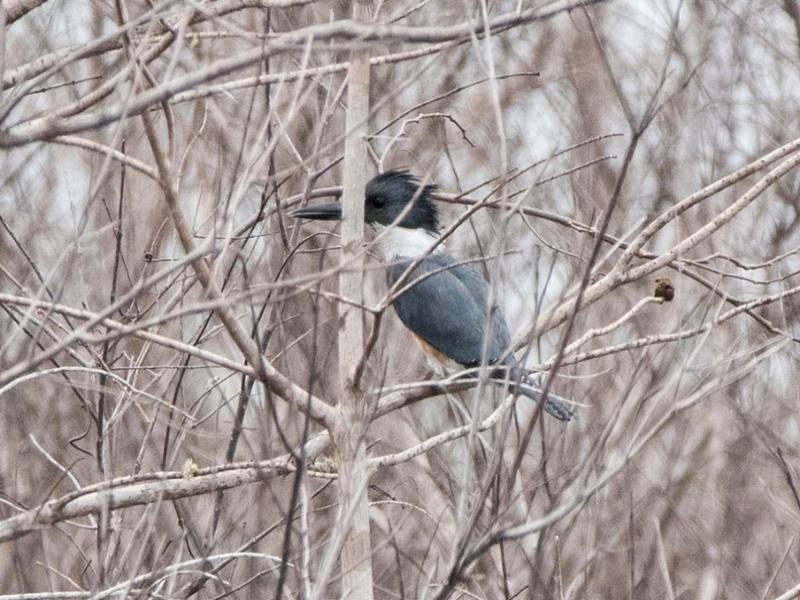kingfisher: (284, 166, 580, 428)
